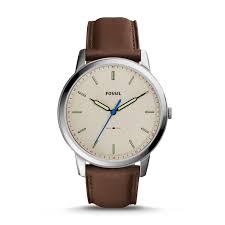clock: (66, 64, 162, 162)
